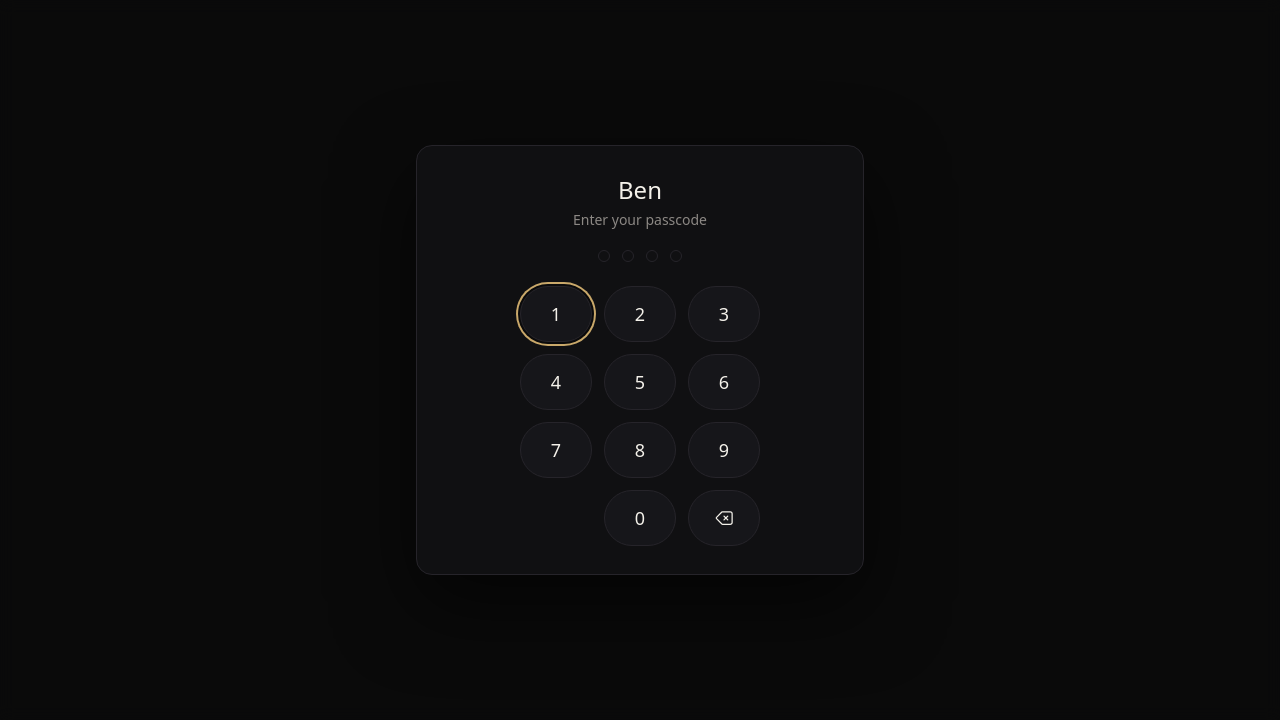
PasscodePrompt › shows the error state and clears the entry when the server rejects the code
Click the button "9". click: [724, 450]
box: [688, 422, 760, 478]
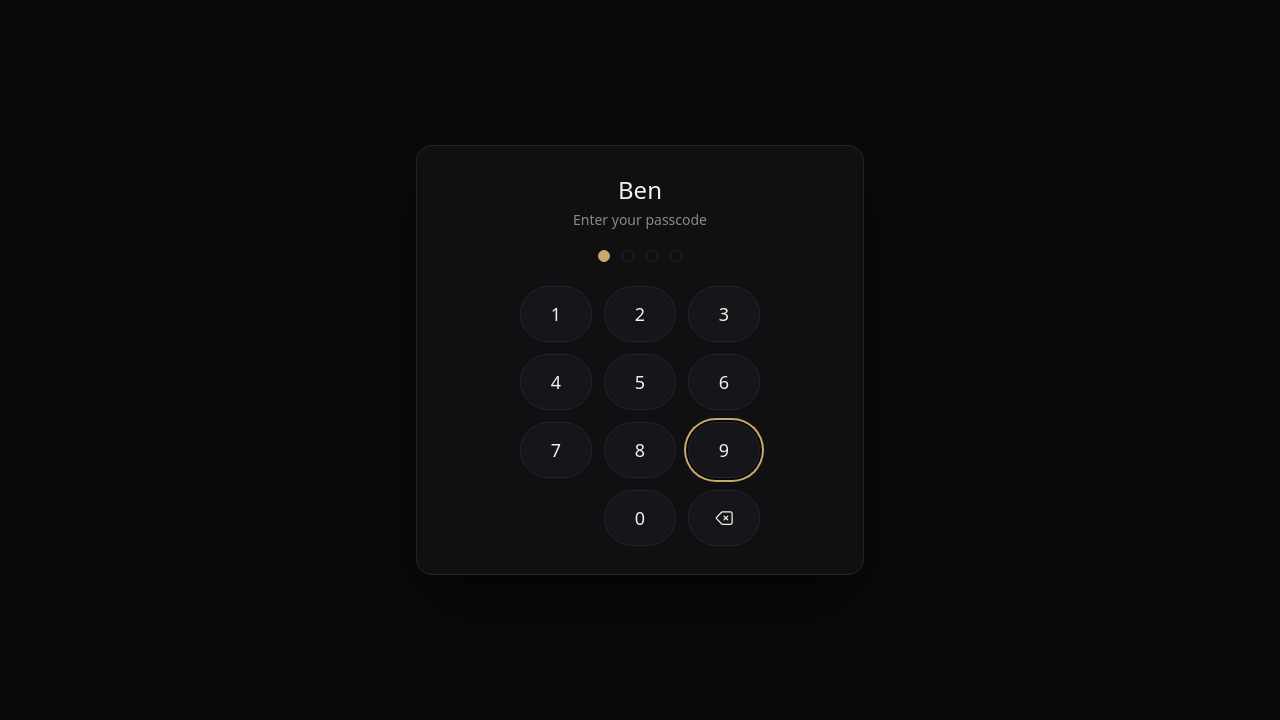
Click the button "9". click: [724, 450]
box: [688, 422, 760, 478]
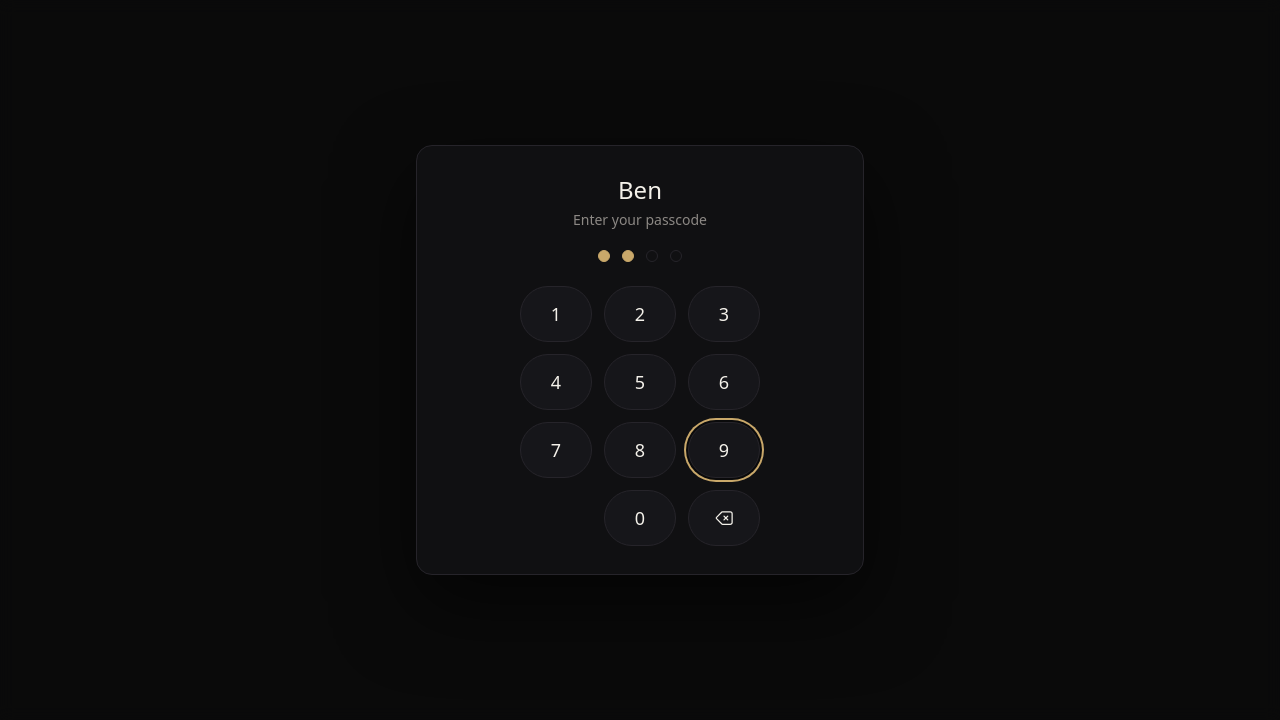
Click the button "9". click: [724, 450]
box: [688, 422, 760, 478]
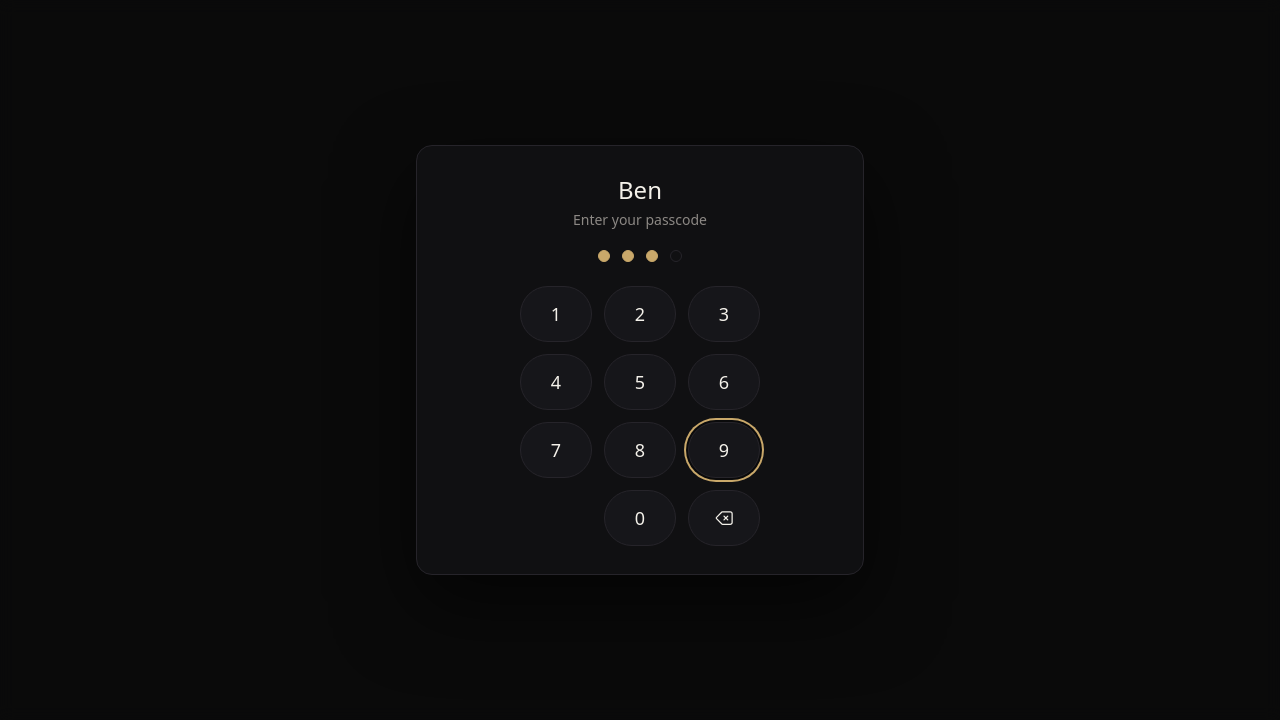
Click the button "9". click: [724, 450]
box: [688, 422, 760, 478]
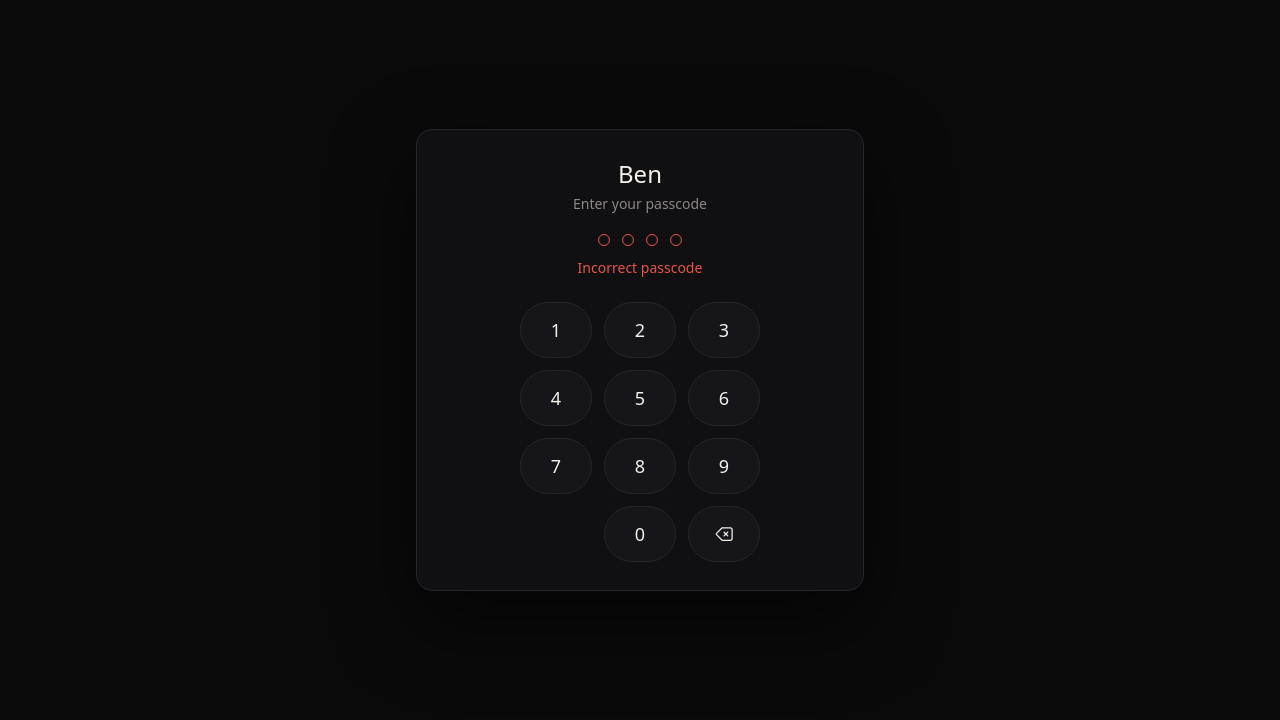
Expected: the message shows "Incorrect", [578, 258, 702, 277]
Click the button "1". click: [556, 330]
box: [520, 302, 592, 358]
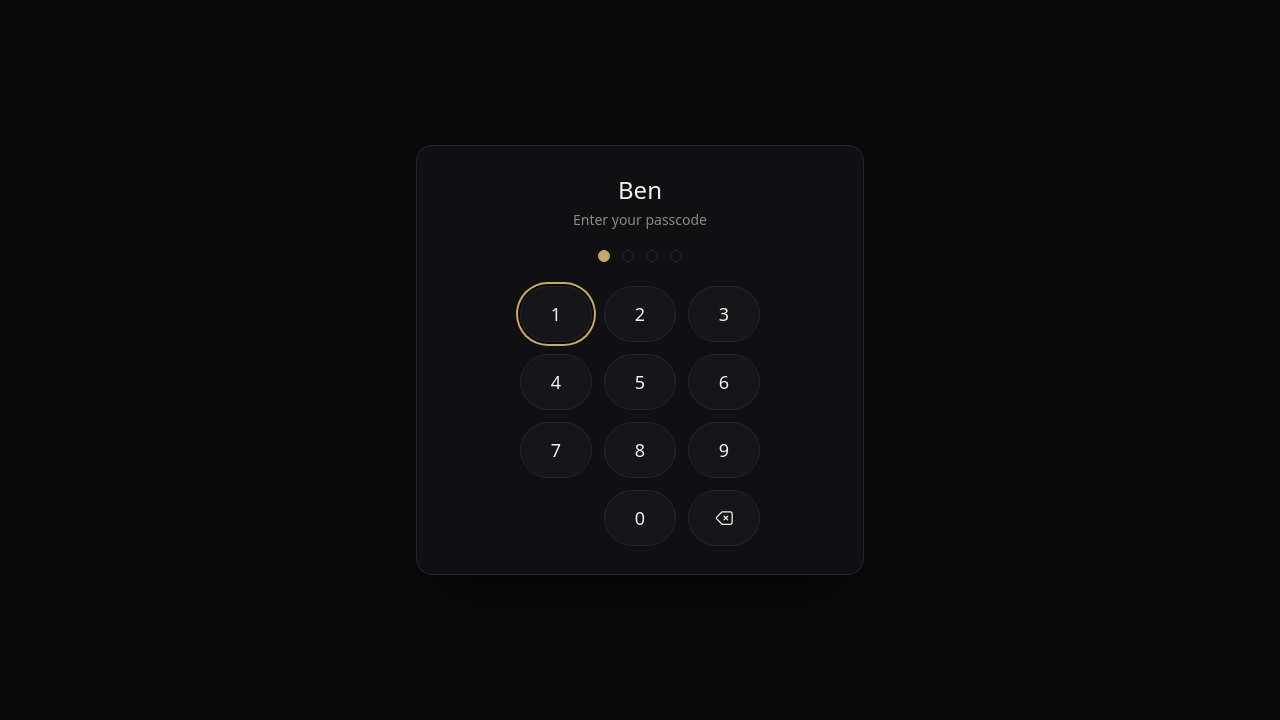
Expected: the message "Incorrect passcode" is gone
